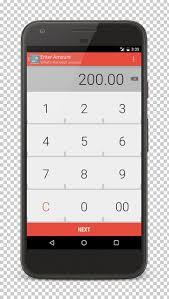Calculator: (25, 70, 145, 247)
